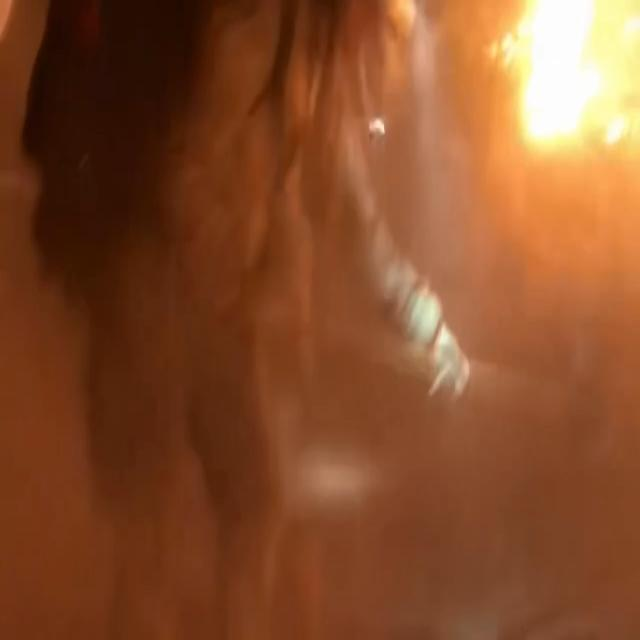Fire: (501, 0, 638, 172)
